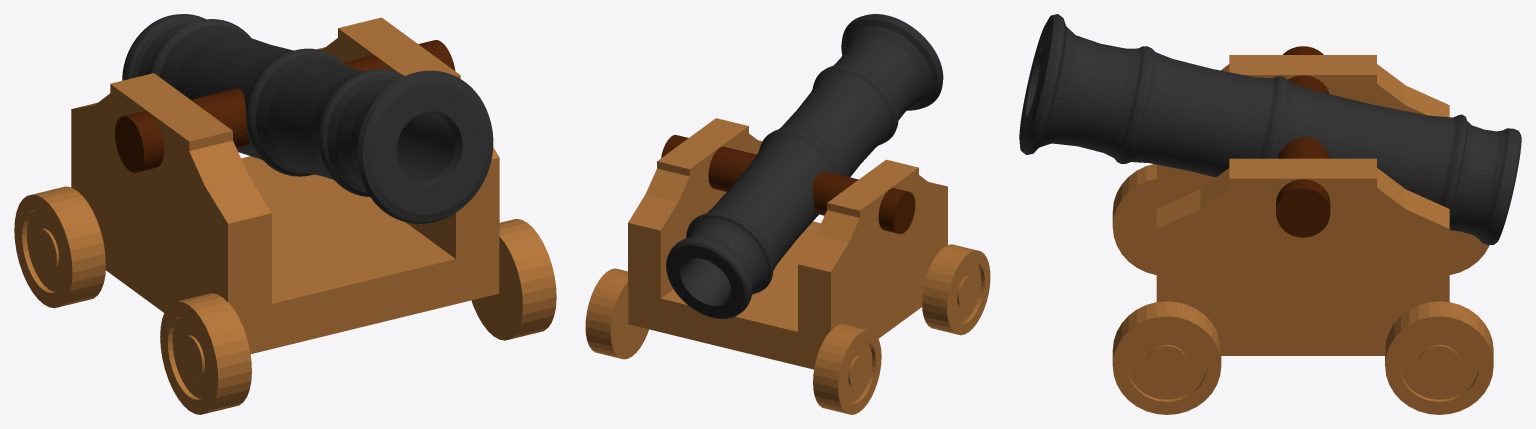
The model's file is canon.fbx.
3 views of the same model, side by side, from view 1: azimuth 30°, elevation 25°; view 2: azimuth 150°, elevation 25°; view 3: azimuth 270°, elevation 25° (orthographic). The views are drawn at different scales.
Parts seen in each view (by area): view 1: Cube, Cylinder.001, Cylinder.002, Cylinder; view 2: Cube, Cylinder.001, Cylinder.002, Cylinder; view 3: Cube, Cylinder.001, Cylinder.002, Cylinder.
Part boxes in pixels (<box>): Cube: <box>71,17,499,354</box>; Cylinder.001: <box>122,14,493,223</box>; Cylinder.002: <box>14,186,556,414</box>; Cylinder: <box>115,40,455,172</box>; Cube: <box>628,118,947,369</box>; Cylinder.001: <box>666,14,943,318</box>; Cylinder.002: <box>585,244,990,414</box>; Cylinder: <box>661,135,915,234</box>; Cube: <box>1156,55,1449,355</box>; Cylinder.001: <box>1019,14,1521,244</box>; Cylinder.002: <box>1112,164,1493,414</box>; Cylinder: <box>1276,46,1330,237</box>.
Size of the model in its own units: 249 by 239 by 343.
